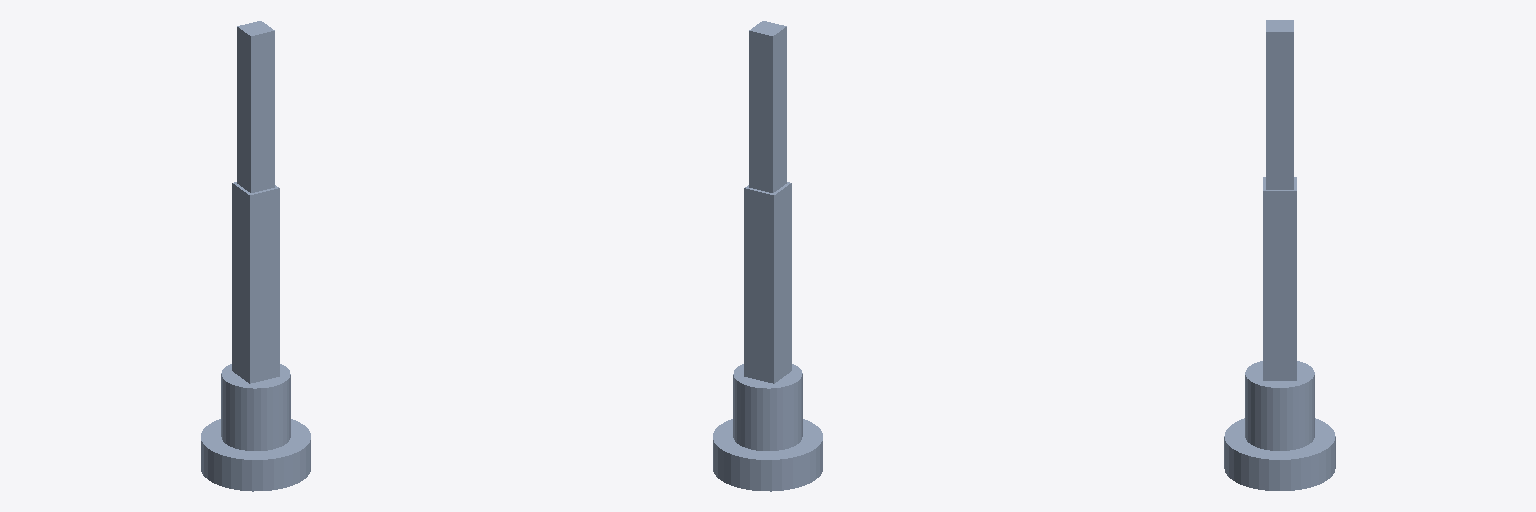
The robot description file, URDF, robot "arm_3dof":
<?xml version="1.0"?>
<!-- Template of the robot builder (RFC 0016): a three-joint arm on a fixed base (the root link
     "world" bolts it to the ground). Sizes, densities, limits, efforts and speeds are
     illustrative; edit them. -->
<robot name="arm_3dof">
  <material name="builder_color_1">
    <color rgba="0.66 0.72 0.81 1"/>
  </material>
  <link name="world">
  </link>
  <link name="base_link" lagrange_density="2700">
    <inertial lagrange_overrides="">
      <origin xyz="0 0 0.025"/>
      <mass value="2.7143360527015816"/>
      <inertia ixx="0.004908424361968693" ixy="0" ixz="0" iyy="0.004908424361968693" iyz="0" izz="0.008685875368645062"/>
    </inertial>
    <visual>
      <origin xyz="0 0 0.025" rpy="0 0 0"/>
      <geometry><cylinder radius="0.08" length="0.05"/></geometry>
      <material name="builder_color_1"/>
    </visual>
    <collision>
      <origin xyz="0 0 0.025" rpy="0 0 0"/>
      <geometry><cylinder radius="0.08" length="0.05"/></geometry>
    </collision>
  </link>
  <link name="shoulder" lagrange_density="2700">
    <inertial lagrange_overrides="">
      <origin xyz="0 0 0.05"/>
      <mass value="2.120575041173111"/>
      <inertia ixx="0.0030925052683774532" ixy="0" ixz="0" iyy="0.0030925052683774532" iyz="0" izz="0.0026507188014663887"/>
    </inertial>
    <visual>
      <origin xyz="0 0 0.05" rpy="0 0 0"/>
      <geometry><cylinder radius="0.05" length="0.1"/></geometry>
      <material name="builder_color_1"/>
    </visual>
    <collision>
      <origin xyz="0 0 0.05" rpy="0 0 0"/>
      <geometry><cylinder radius="0.05" length="0.1"/></geometry>
    </collision>
  </link>
  <link name="upper_arm" lagrange_density="2700">
    <inertial lagrange_overrides="">
      <origin xyz="0 0 0.15"/>
      <mass value="2.025"/>
      <inertia ixx="0.015609375" ixy="0" ixz="0" iyy="0.015609375" iyz="0" izz="0.0008437500000000002"/>
    </inertial>
    <visual>
      <origin xyz="0 0 0.15" rpy="0 0 0"/>
      <geometry><box size="0.05 0.05 0.3"/></geometry>
      <material name="builder_color_1"/>
    </visual>
    <collision>
      <origin xyz="0 0 0.15" rpy="0 0 0"/>
      <geometry><box size="0.05 0.05 0.3"/></geometry>
    </collision>
  </link>
  <link name="forearm" lagrange_density="2700">
    <inertial lagrange_overrides="">
      <origin xyz="0 0 0.125"/>
      <mass value="1.08"/>
      <inertia ixx="0.005769000000000001" ixy="0" ixz="0" iyy="0.005769000000000001" iyz="0" izz="0.000288"/>
    </inertial>
    <visual>
      <origin xyz="0 0 0.125" rpy="0 0 0"/>
      <geometry><box size="0.04 0.04 0.25"/></geometry>
      <material name="builder_color_1"/>
    </visual>
    <collision>
      <origin xyz="0 0 0.125" rpy="0 0 0"/>
      <geometry><box size="0.04 0.04 0.25"/></geometry>
    </collision>
  </link>
  <joint name="base_joint" type="fixed">
    <parent link="world"/>
    <child link="base_link"/>
    <origin xyz="0 0 0" rpy="0 0 0"/>
  </joint>
  <joint name="shoulder_yaw" type="revolute">
    <parent link="base_link"/>
    <child link="shoulder"/>
    <origin xyz="0 0 0.05" rpy="0 0 0"/>
    <axis xyz="0 0 1"/>
    <limit lower="-3.141592653589793" upper="3.141592653589793" effort="20" velocity="2"/>
  </joint>
  <joint name="shoulder_pitch" type="revolute">
    <parent link="shoulder"/>
    <child link="upper_arm"/>
    <origin xyz="0 0 0.1" rpy="0 0 0"/>
    <axis xyz="0 1 0"/>
    <limit lower="-1.5707963267948966" upper="1.5707963267948966" effort="20" velocity="2"/>
  </joint>
  <joint name="elbow" type="revolute">
    <parent link="upper_arm"/>
    <child link="forearm"/>
    <origin xyz="0 0 0.3" rpy="0 0 0"/>
    <axis xyz="0 1 0"/>
    <limit lower="-2.5" upper="2.5" effort="20" velocity="2"/>
  </joint>
</robot>

--- Render facts (derived) ---
3 views of the same robot in one strip: view 1: azimuth 30°, elevation 25°; view 2: azimuth 150°, elevation 25°; view 3: azimuth 270°, elevation 25° (orthographic).
Robot: arm_3dof — 5 links, 4 joints (3 revolute, 1 fixed); root link world; default pose: all joints at 0.
Visible links, largest first — view 1: upper_arm, forearm, base_link, shoulder; view 2: upper_arm, forearm, base_link, shoulder; view 3: upper_arm, base_link, shoulder, forearm.
Boxes of the visible links, x1,y1,x2,y2 form: upper_arm: [232, 182, 279, 383]; forearm: [237, 21, 274, 192]; base_link: [201, 419, 310, 491]; shoulder: [221, 364, 290, 450]; upper_arm: [744, 182, 791, 383]; forearm: [749, 21, 786, 192]; base_link: [713, 419, 822, 491]; shoulder: [733, 364, 802, 450]; upper_arm: [1263, 177, 1296, 380]; base_link: [1224, 418, 1335, 490]; shoulder: [1245, 361, 1314, 450]; forearm: [1266, 20, 1293, 189].
Size in the robot's own frame: 0.16 by 0.16 by 0.7 metres.
Geometry: primitives only (box / cylinder / sphere), no mesh files.
